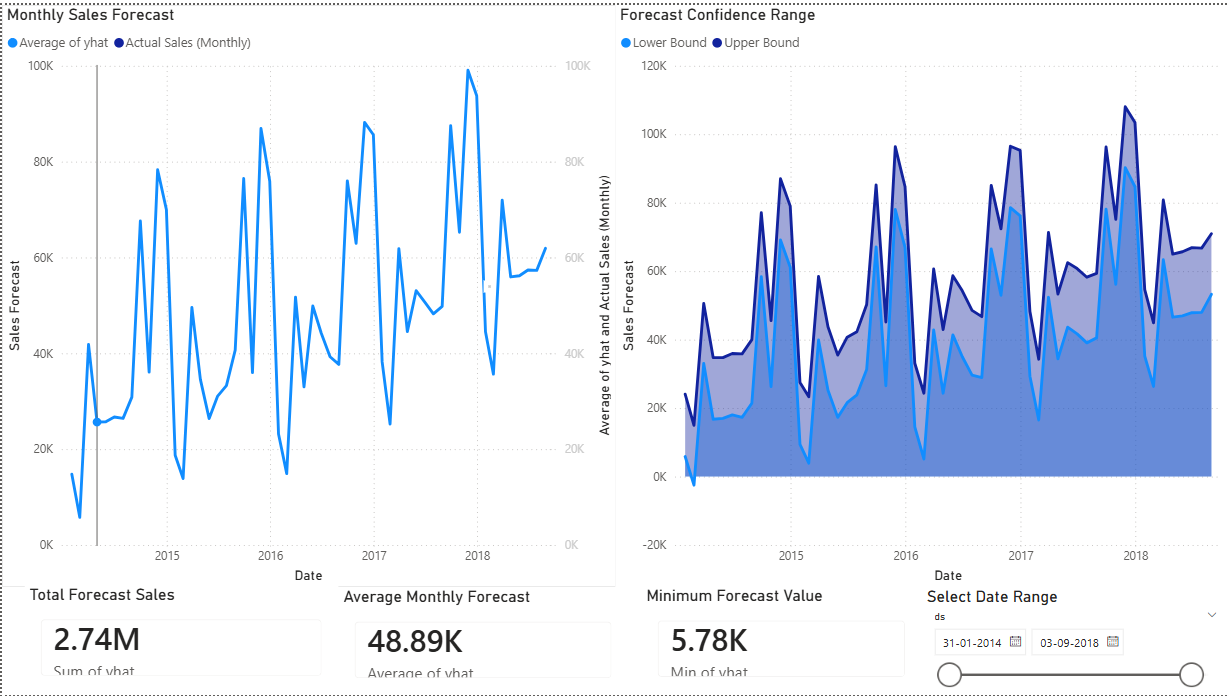

This screenshot's page, from the dashboard's own definition file:
{"tool":"powerbi","page":{"name":"Page 1","canvas":[1280,720],"ordinal":0},"visuals":[{"type":"lineChart","title":"Monthly Sales Forecast","fields":{"Y":["Avg(forecast_results.yhat)"],"Category":["forecast_results.ds"],"Y2":["Sample - Superstore.Actual Sales (Monthly)"]},"box":[0,0,640,607.5],"z":0},{"type":"lineChart","title":"Forecast Confidence Range","fields":{"Y":["Sum(forecast_results.yhat_lower)","Sum(forecast_results.yhat_upper)"],"Category":["forecast_results.ds"]},"box":[640,0,640,607.5],"z":1000},{"type":"textbox","box":[502.7,287.3,12.7,12.7],"z":2000},{"type":"cardVisual","title":"Minimum Forecast Value","fields":{"Data":["Min(forecast_results.yhat)"]},"box":[667.5,606.2,292.5,112.5],"z":3000},{"type":"cardVisual","title":"Average Monthly Forecast","fields":{"Data":["Avg(forecast_results.yhat)"]},"box":[351.2,607.5,302.5,112.5],"z":4000},{"type":"cardVisual","title":"Total Forecast Sales","fields":{"Data":["Sum(forecast_results.yhat)"]},"box":[23.8,605,327.5,112.5],"z":5000},{"type":"slicer","title":"Select Date Range","fields":{"Values":["forecast_results.ds"]},"box":[960,607.5,320,110],"z":6000}]}

Visuals, with their boxes in screenshot pixels (x1, y1, x2, y2), scaled from the page's 1280x720 canvas onto the 1227x696 screenshot:
"Monthly Sales Forecast" lineChart: box=[0, 0, 614, 587]
"Forecast Confidence Range" lineChart: box=[614, 0, 1226, 587]
textbox: box=[482, 278, 494, 290]
"Minimum Forecast Value" cardVisual: box=[640, 586, 920, 695]
"Average Monthly Forecast" cardVisual: box=[337, 587, 627, 695]
"Total Forecast Sales" cardVisual: box=[23, 585, 337, 694]
"Select Date Range" slicer: box=[920, 587, 1226, 694]
